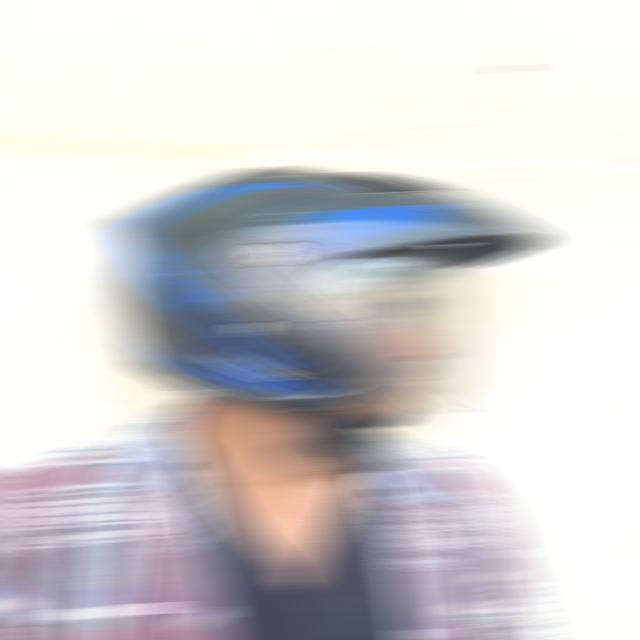With Helmet: (107, 164, 547, 421)
